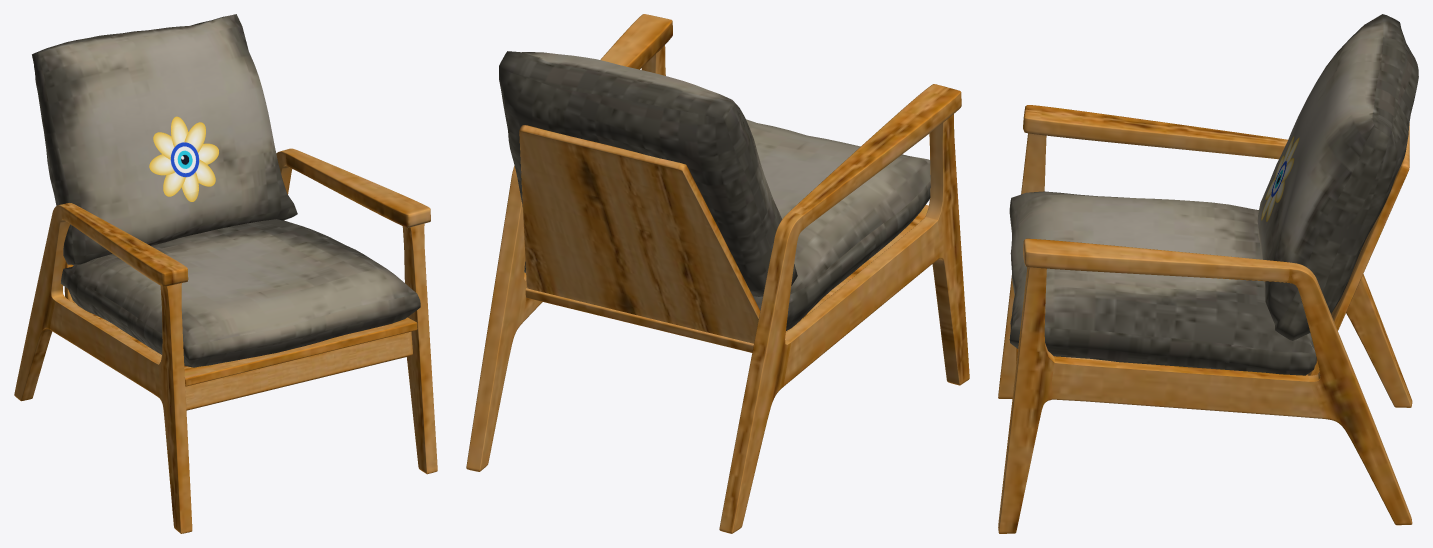
The model's file is nyb_th_chair.glb.
3 views of the same model, side by side, from view 1: azimuth 30°, elevation 25°; view 2: azimuth 150°, elevation 25°; view 3: azimuth 270°, elevation 25° (orthographic). The views are drawn at different scales.
Visible parts, largest first — view 1: modern_arm_chair_01, stk_eyeflower_gold.png; view 2: modern_arm_chair_01; view 3: modern_arm_chair_01, stk_eyeflower_gold.png.
Boxes of the visible parts, left/top/right/bottom form: modern_arm_chair_01: left=14, top=14, right=437, bottom=533; stk_eyeflower_gold.png: left=149, top=116, right=218, bottom=201; modern_arm_chair_01: left=466, top=14, right=969, bottom=533; modern_arm_chair_01: left=998, top=14, right=1418, bottom=533; stk_eyeflower_gold.png: left=1261, top=136, right=1299, bottom=221.
Bounding box in the file's own units: 0.8203 × 1.02 × 0.9866.
3 materials, 3 textured.
